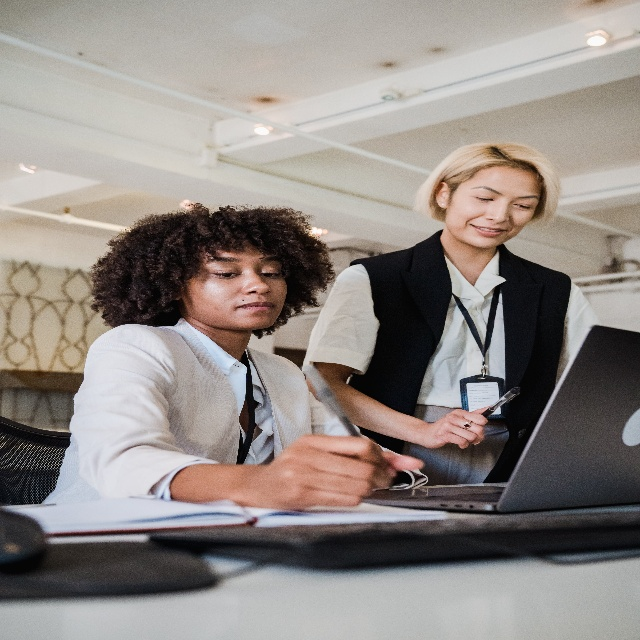Sin_guantes: (261, 443, 426, 509), (427, 405, 487, 450)
